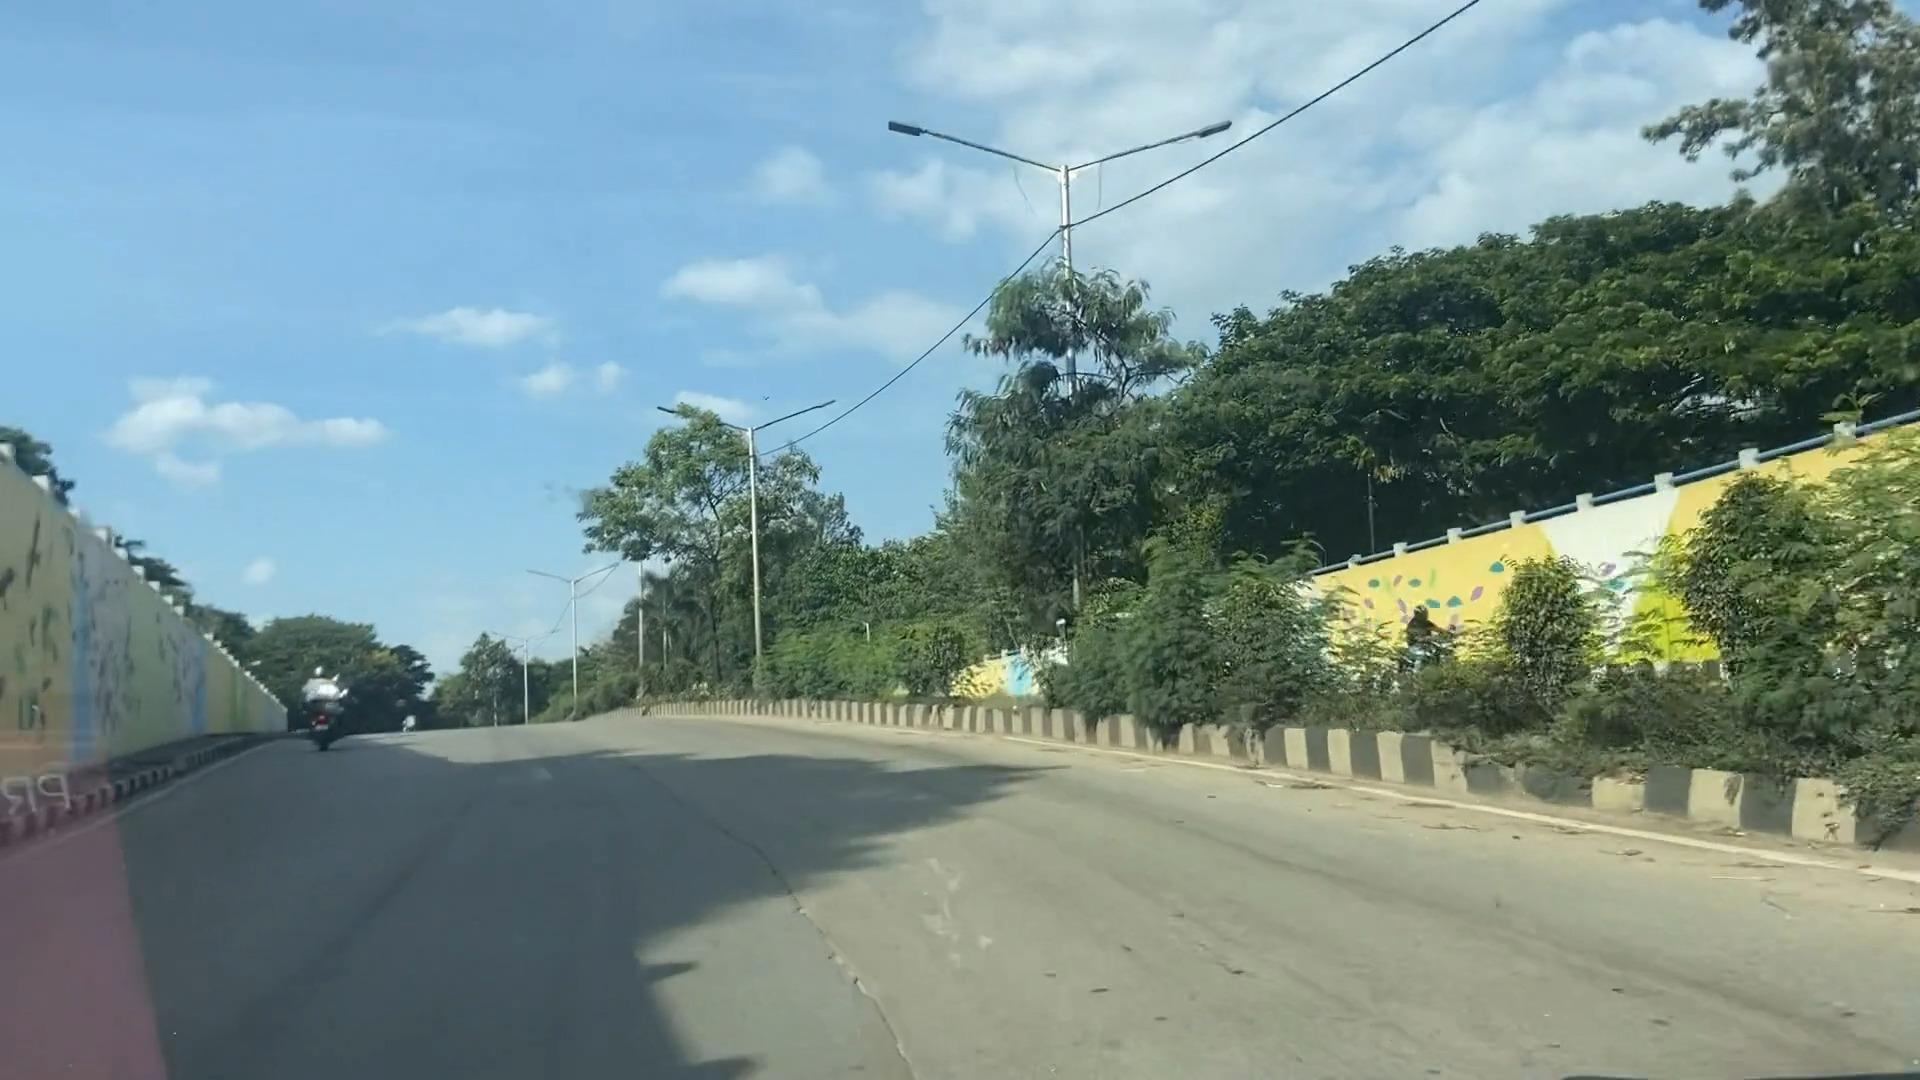LMV: (304, 662, 339, 742)
RoadDamages: (734, 812, 913, 1069)
